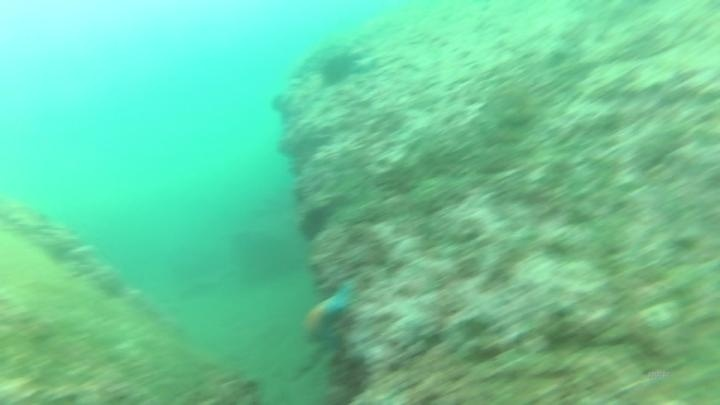echinus: (316, 49, 361, 89), (295, 203, 334, 244)
starfish: (297, 279, 359, 352)
